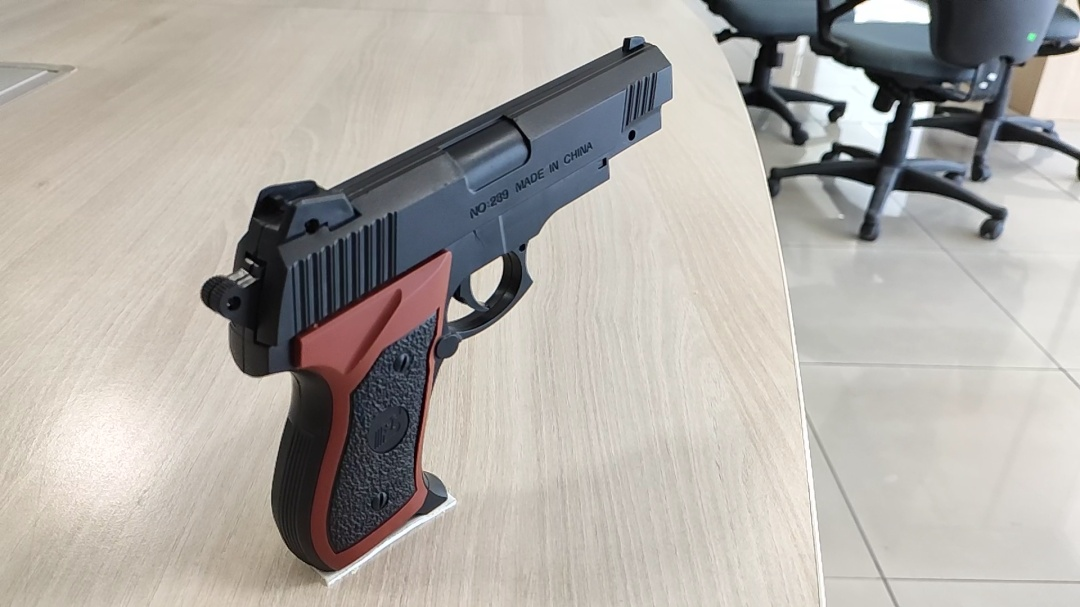gun: (517, 265, 567, 302)
